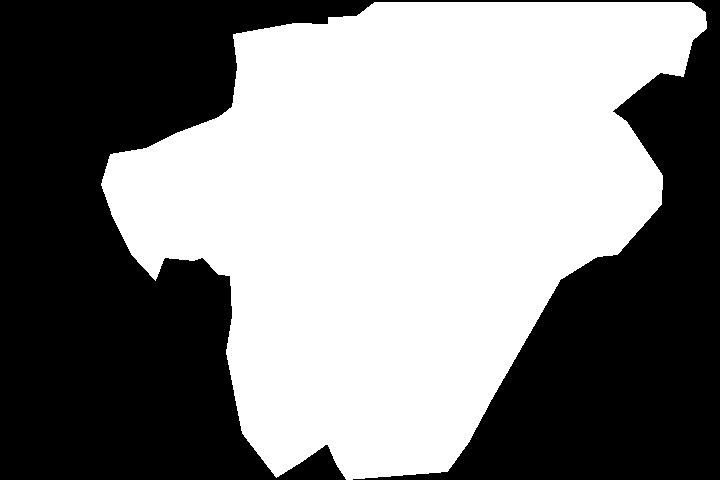fire: (166, 6, 460, 385)
